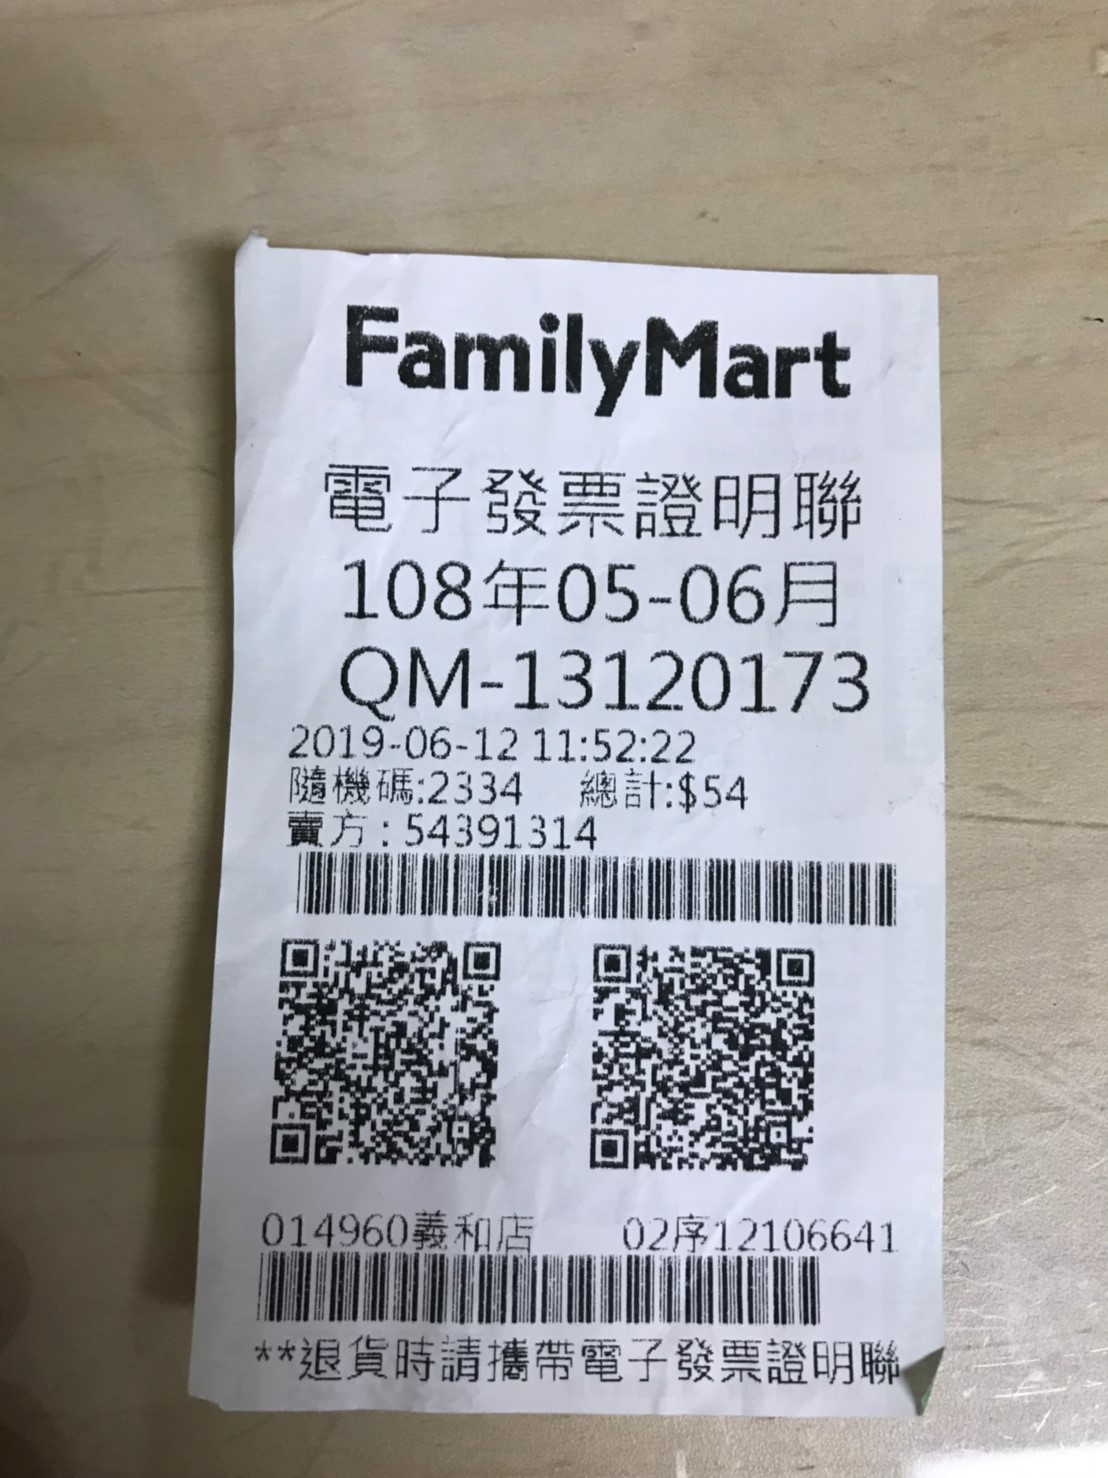Date_New: (335, 550, 847, 632)
Number_New: (514, 649, 876, 713)
